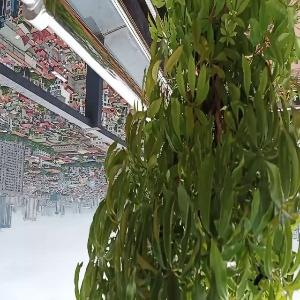drone: (238, 261, 275, 298)
